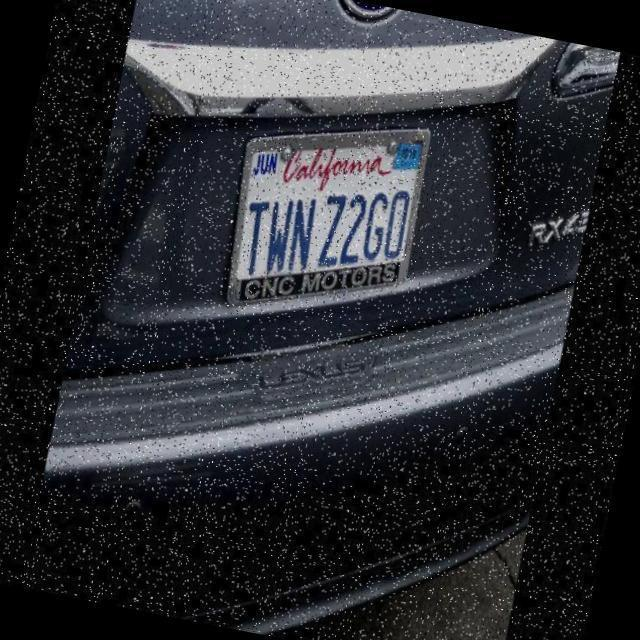License Plate: (219, 98, 436, 308)
